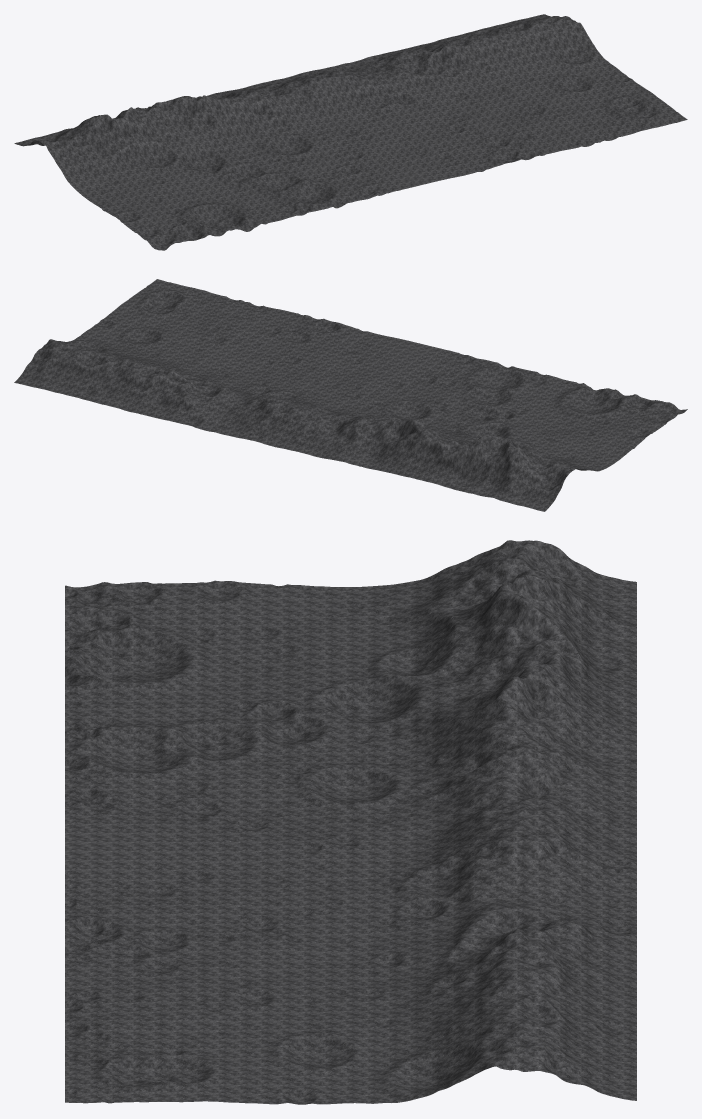
The model's file is moon_terrain.glb.
3 views of the same model, one above another, from view 1: azimuth 30°, elevation 25°; view 2: azimuth 150°, elevation 25°; view 3: azimuth 270°, elevation 25° (orthographic). The views are drawn at different scales.
Visible parts, largest first — view 1: MoonTerrain; view 2: MoonTerrain; view 3: MoonTerrain.
Boxes of the visible parts, left/top/right/bottom form: MoonTerrain: left=14, top=14, right=687, bottom=250; MoonTerrain: left=14, top=279, right=687, bottom=511; MoonTerrain: left=65, top=540, right=636, bottom=1104.
Bounding box in the file's own units: 690 × 52.56 × 322.
Materials: 1 (1 with a texture image).
